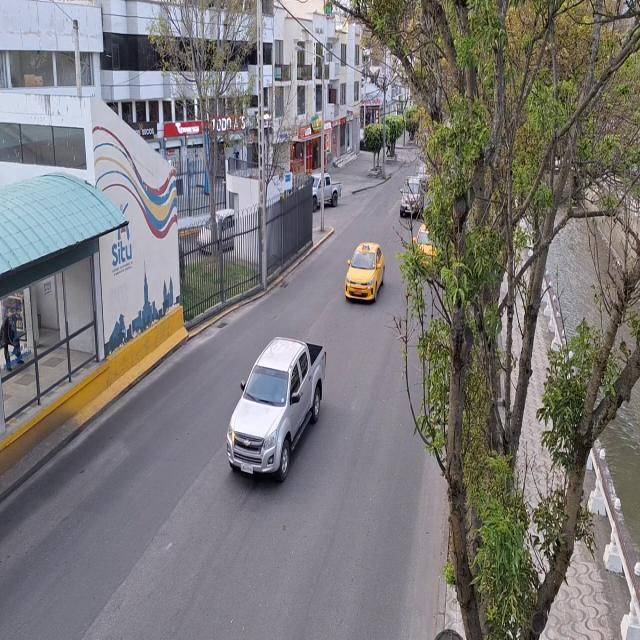CMT: (228, 342, 324, 485)
SED: (347, 243, 385, 303)
